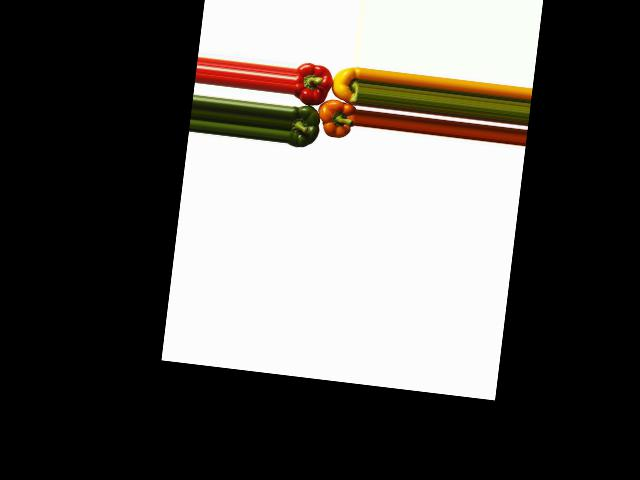bell_pepper: (328, 63, 362, 107)
